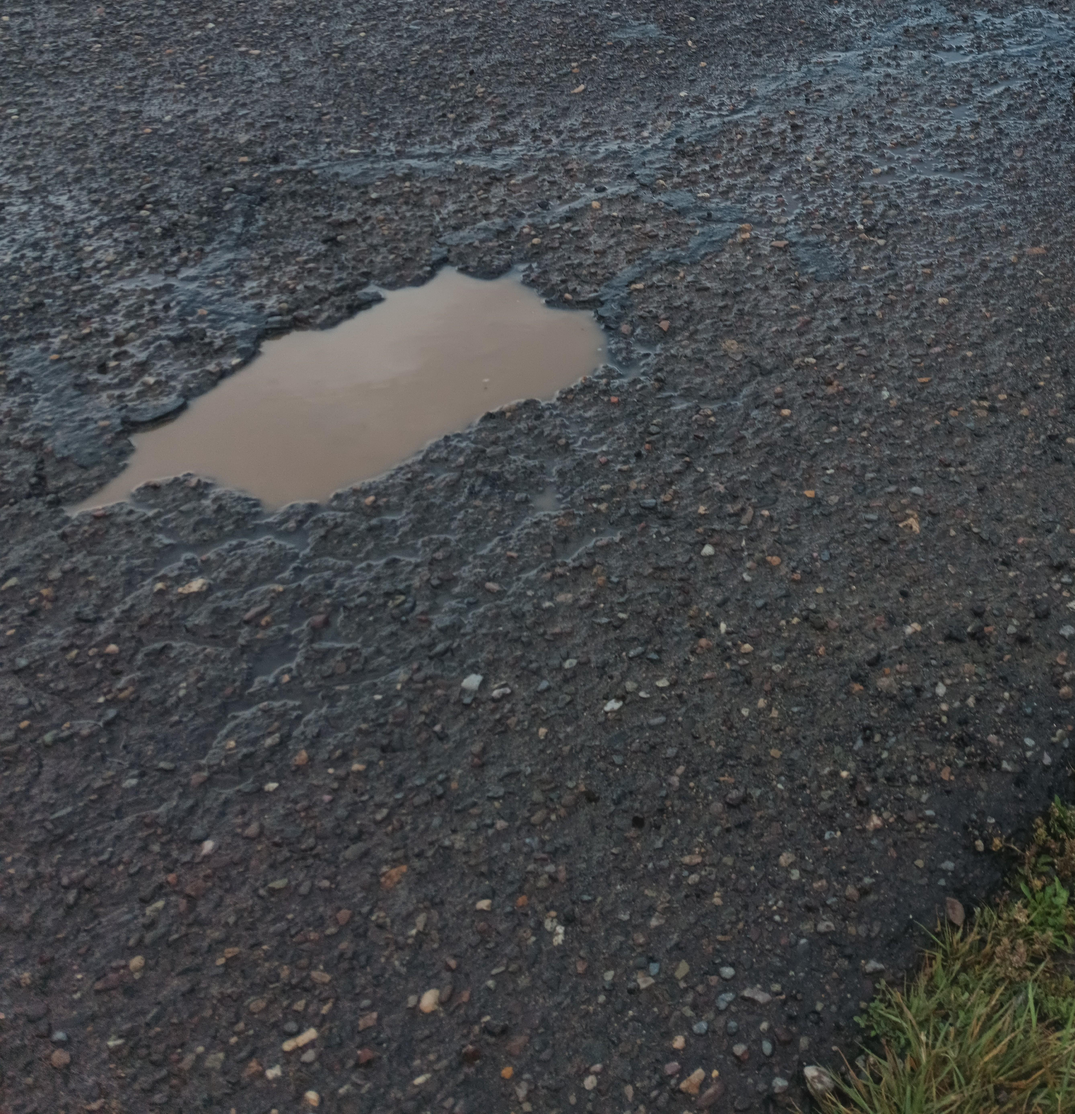BACHE: (76, 271, 605, 509)
PIEL DE COCODRILO: (0, 438, 665, 851)
